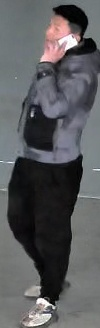phone: (31, 24, 83, 120)
